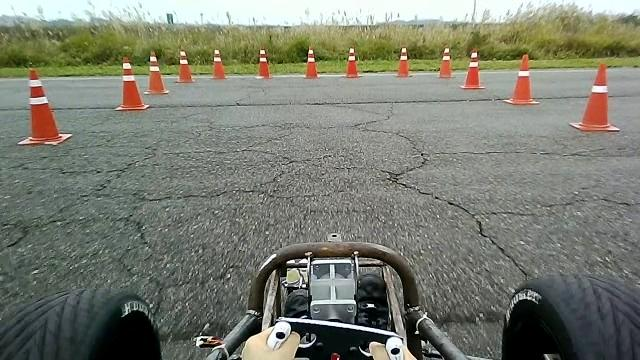red cone: (16, 68, 72, 145), (568, 62, 620, 131), (502, 53, 540, 104), (114, 56, 149, 110), (142, 50, 169, 94), (459, 47, 485, 89), (175, 48, 195, 83), (255, 46, 272, 79), (343, 47, 361, 78), (209, 49, 227, 79), (438, 47, 455, 78), (395, 47, 412, 77), (303, 47, 319, 78)
